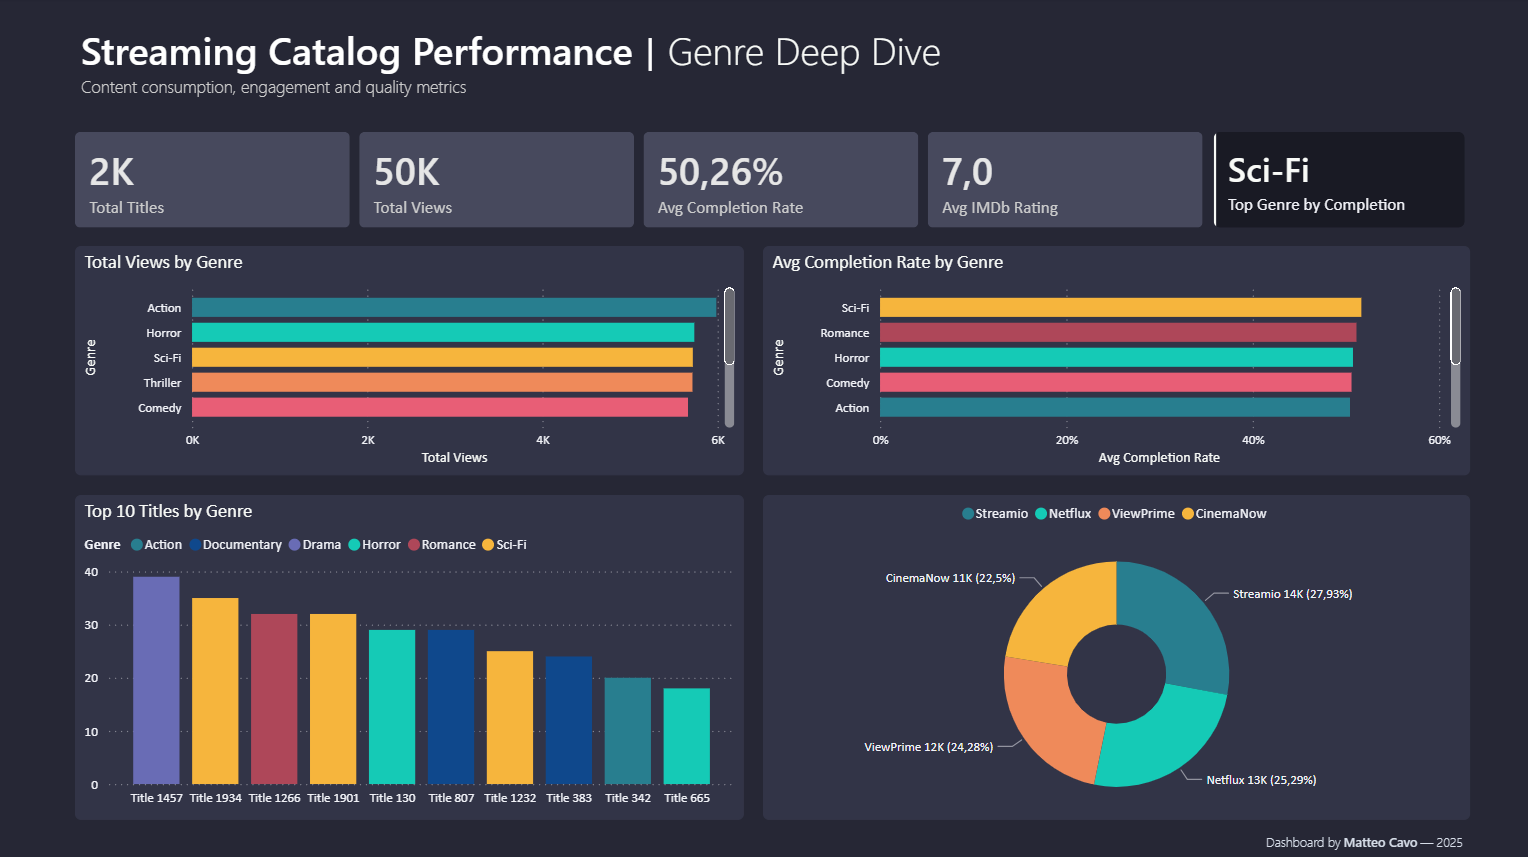

Layout of this report page (visuals, bound fields, positions):
{"tool":"powerbi","page":{"name":"Pagina 1","canvas":[1280,720],"ordinal":0},"visuals":[{"type":"columnChart","fields":{"Category":["Catalog.genre"],"Y":["Catalog.Total Views"],"Series":["Catalog.genre"]},"box":[54.9,139.4,477.5,281.7],"z":0},{"type":"donutChart","fields":{"Category":["Catalog.provider"],"Y":["Sum(Catalog.engagement_score)"]},"box":[623.9,139.4,584.5,281.7],"z":1000},{"type":"cardVisual","fields":{"Data":["Catalog.Total Views"]},"box":[537,12.2,168.3,95.4],"z":2000,"group":"g1"},{"type":"cardVisual","fields":{"Data":["Catalog.Total Titles"]},"box":[397.2,11.3,139.8,95.4],"z":3000,"group":"g1"},{"type":"cardVisual","fields":{"Data":["Catalog.Avg IMDb Rating"]},"box":[705.4,13.1,204,95.4],"z":4000,"group":"g1"},{"type":"cardVisual","fields":{"Data":["Catalog.Completion %"]},"box":[890.8,11.3,172.6,95.4],"z":5000,"group":"g1"},{"type":"cardVisual","fields":{"Data":["Catalog.Avg Engagement Score"]},"box":[1047.8,11.3,232.5,95.4],"z":6000,"group":"g1"},{"type":"clusteredBarChart","fields":{"Category":["Catalog.title_name"],"Y":["Sum(Catalog.popularity_score)"]},"box":[54.9,436.6,485.9,277.5],"z":7000},{"type":"scatterChart","fields":{"Size":["Catalog.Total Views"],"Series":["Catalog.genre"],"Y":["Sum(Catalog.completion_rate)"],"X":["Catalog.imdb_rating"]},"box":[623.9,429.6,584.5,290.1],"z":8000},{"type":"textbox","box":[31,12.7,366.2,126.8],"z":9000},{"type":"group","id":"g1","title":"Gruppo 1","box":[397.2,11.3,883.1,97.2],"z":9001}]}

Visuals, with their boxes in screenshot pixels (x1, y1, x2, y2), scaled from the page's 1280x720 canvas onto the 1528x857 screenshot:
columnChart - Catalog.genre x Catalog.Total Views: 66, 166, 636, 501
donutChart - Catalog.provider x Sum(Catalog.engagement_score): 745, 166, 1443, 501
cardVisual - Catalog.Total Views: 641, 15, 842, 128
cardVisual - Catalog.Total Titles: 474, 13, 641, 127
cardVisual - Catalog.Avg IMDb Rating: 842, 16, 1086, 129
cardVisual - Catalog.Completion %: 1063, 13, 1269, 127
cardVisual - Catalog.Avg Engagement Score: 1251, 13, 1527, 127
clusteredBarChart - Catalog.title_name x Sum(Catalog.popularity_score): 66, 520, 646, 850
scatterChart - Catalog.Total Views x Catalog.genre: 745, 511, 1443, 856
textbox: 37, 15, 474, 166
"Gruppo 1" group: 474, 13, 1527, 129
